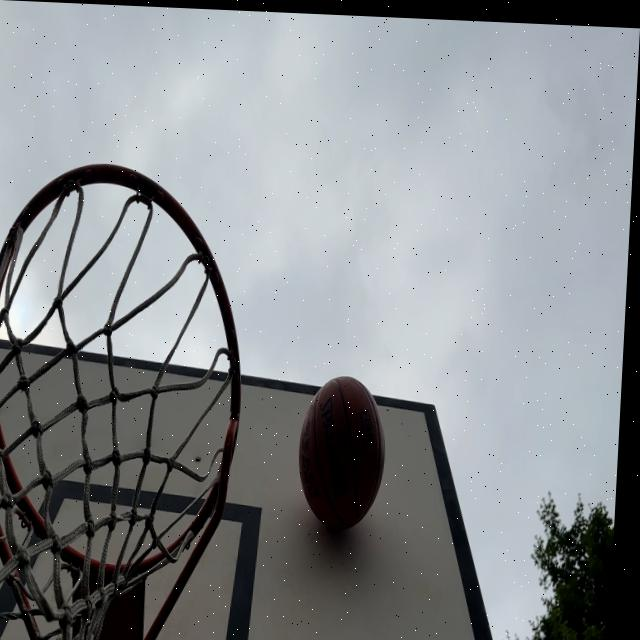rebound_hit: (294, 374, 390, 545)
